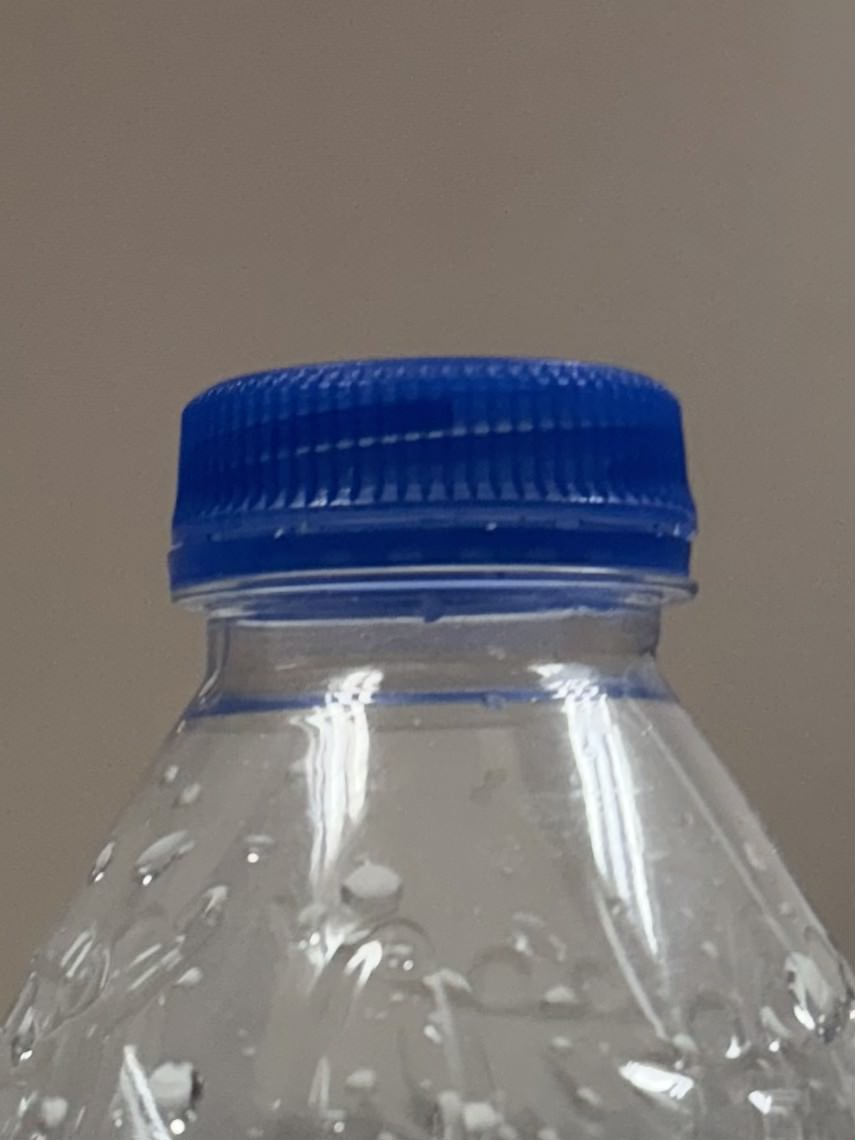closed_cap: (164, 350, 702, 609)
